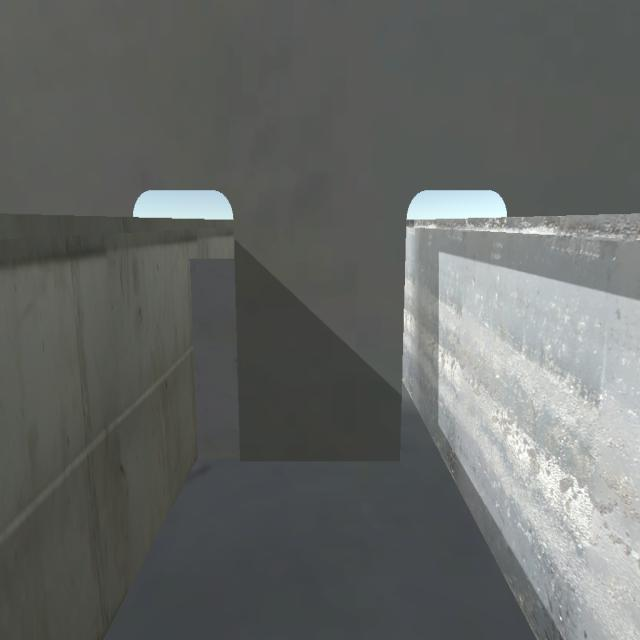fillet_yong_jeop_jang: (236, 449, 406, 468)
longi_yong_jeop_jang: (184, 250, 198, 461)
plate_behind: (189, 257, 240, 455)
